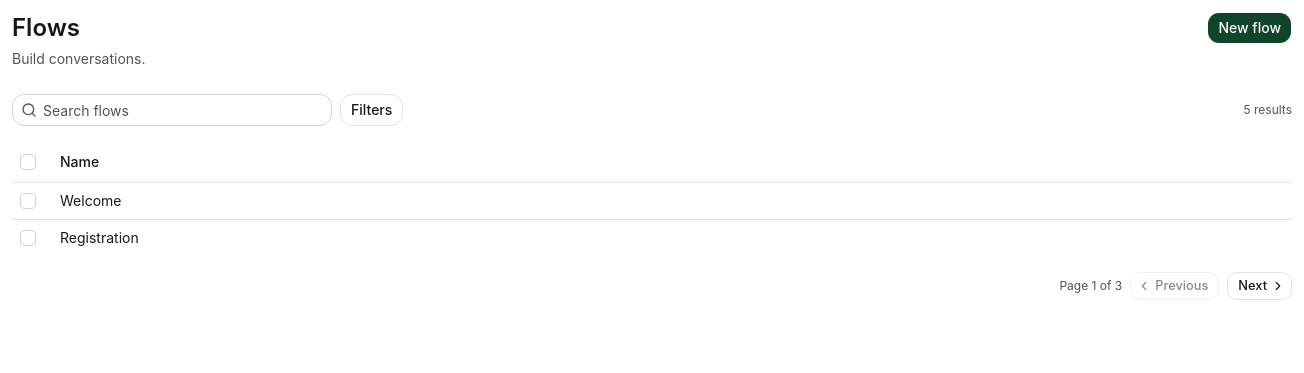
Scenario: ListPage › runs bulk actions on selected rows
What coordinates should you click on to do the following:
click the checkbox named "Select row" next to "Registration"
I would click on:
 (28, 238)
Its box is [20,230,36,246].
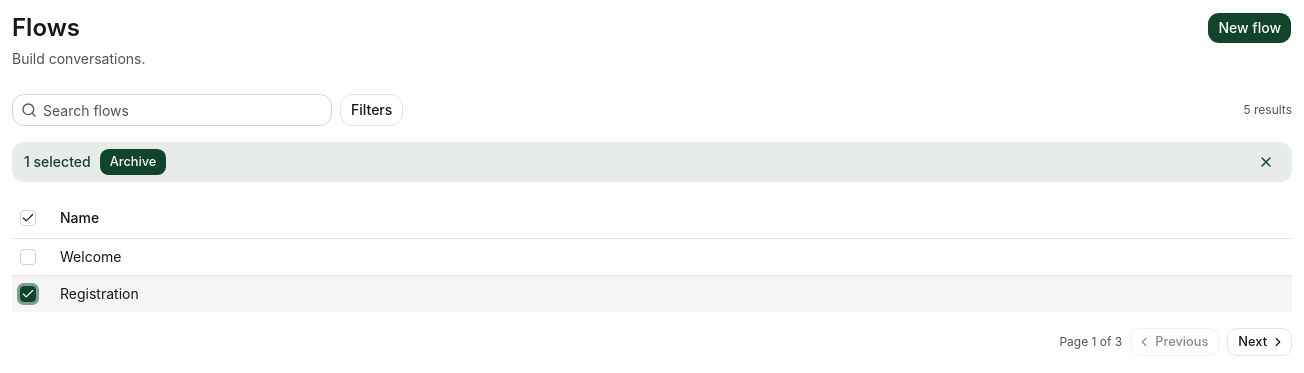
expect the element "1 selected" is shown: met, box [12,142,1292,182]
What coordinates should you click on to do the following:
click the button "Archive"
I would click on:
 (133, 162)
Its box is [99,148,167,176].
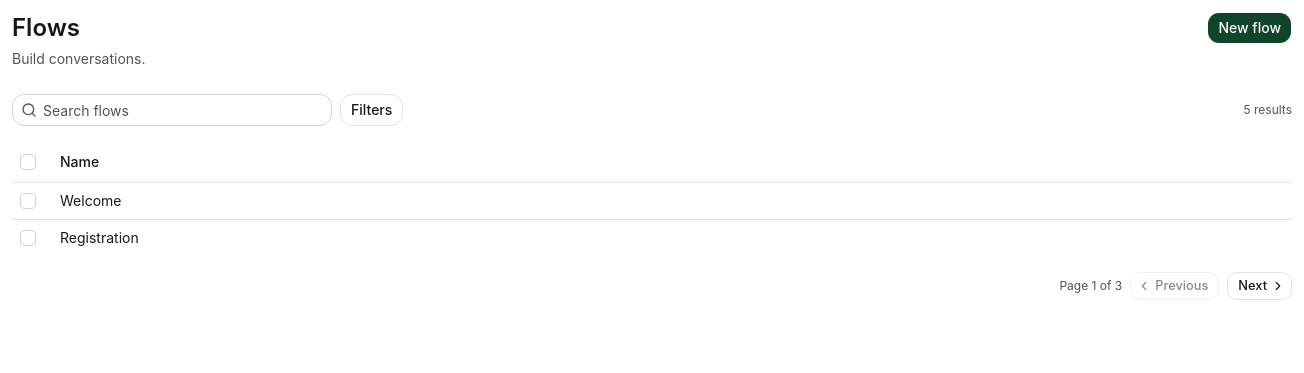
expect the text "selected" is gone: met
